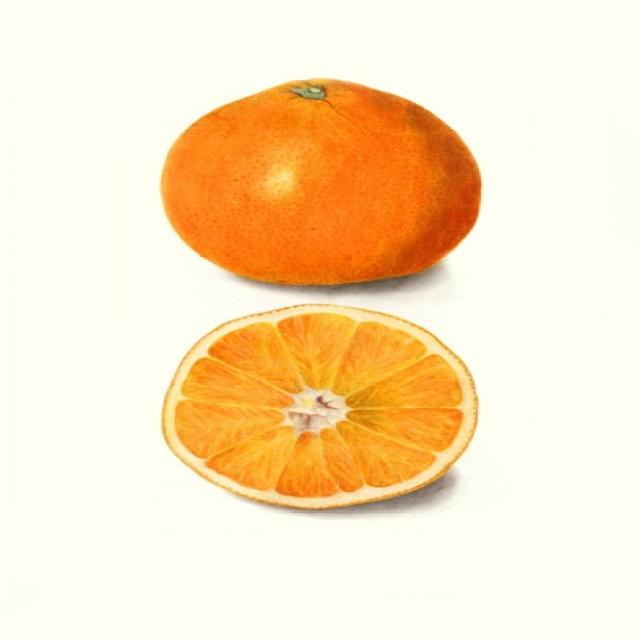orange: (161, 298, 477, 520), (153, 82, 479, 292)
